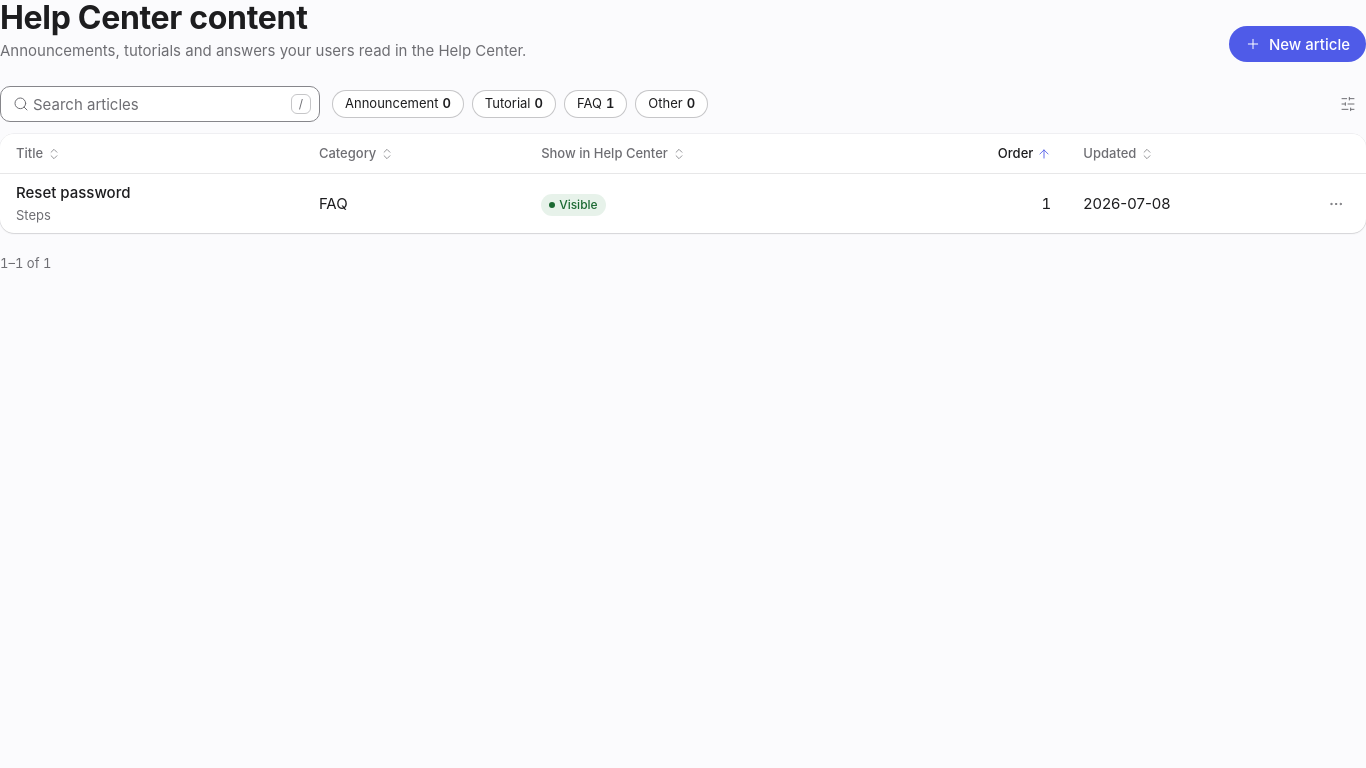
Admin Knowledge › dialogs and feedback › keeps a failed save in the dialog
Expected: the text "Reset password" is shown, [16, 183, 130, 202]
Click the button named "Actions for Reset password".
click(1336, 204)  # box [1322, 190, 1350, 218]
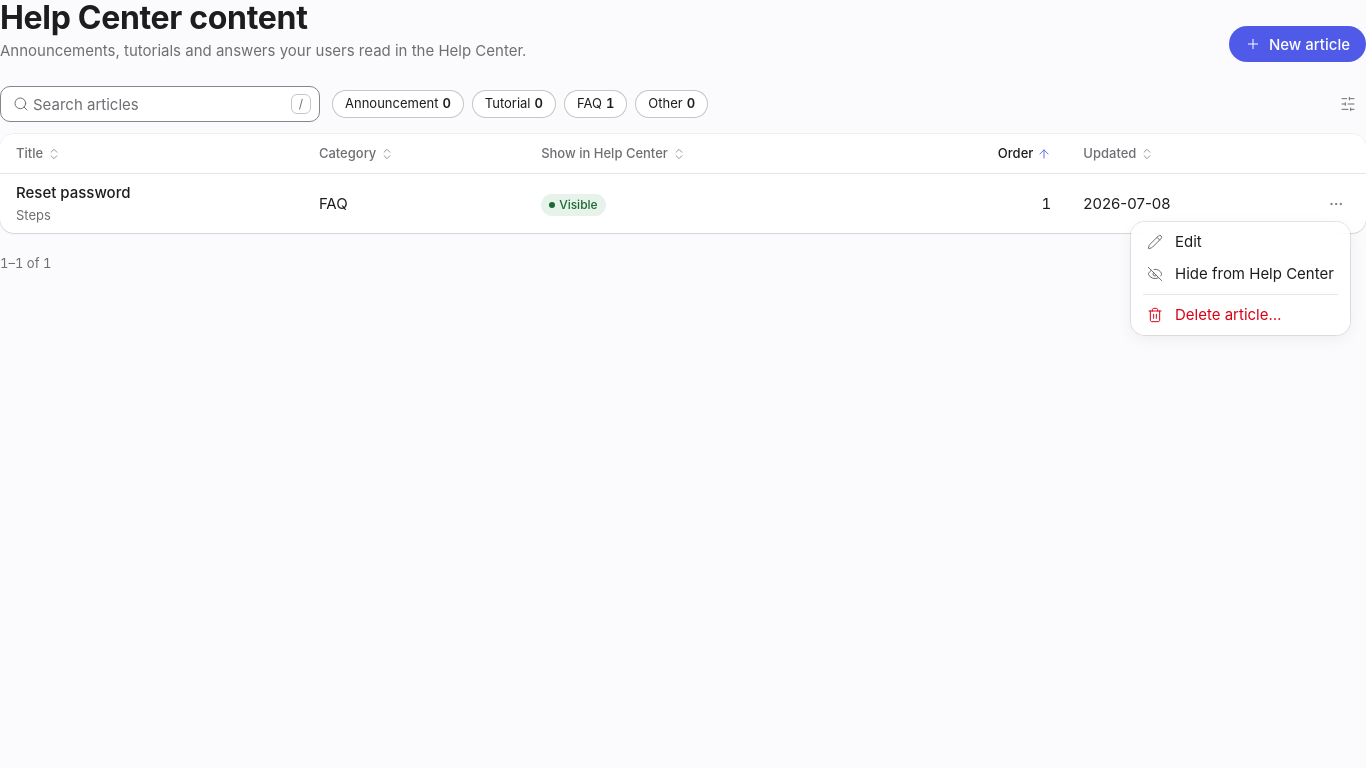
Click the menu item "Edit".
click(1174, 242)  # box [1147, 232, 1202, 251]
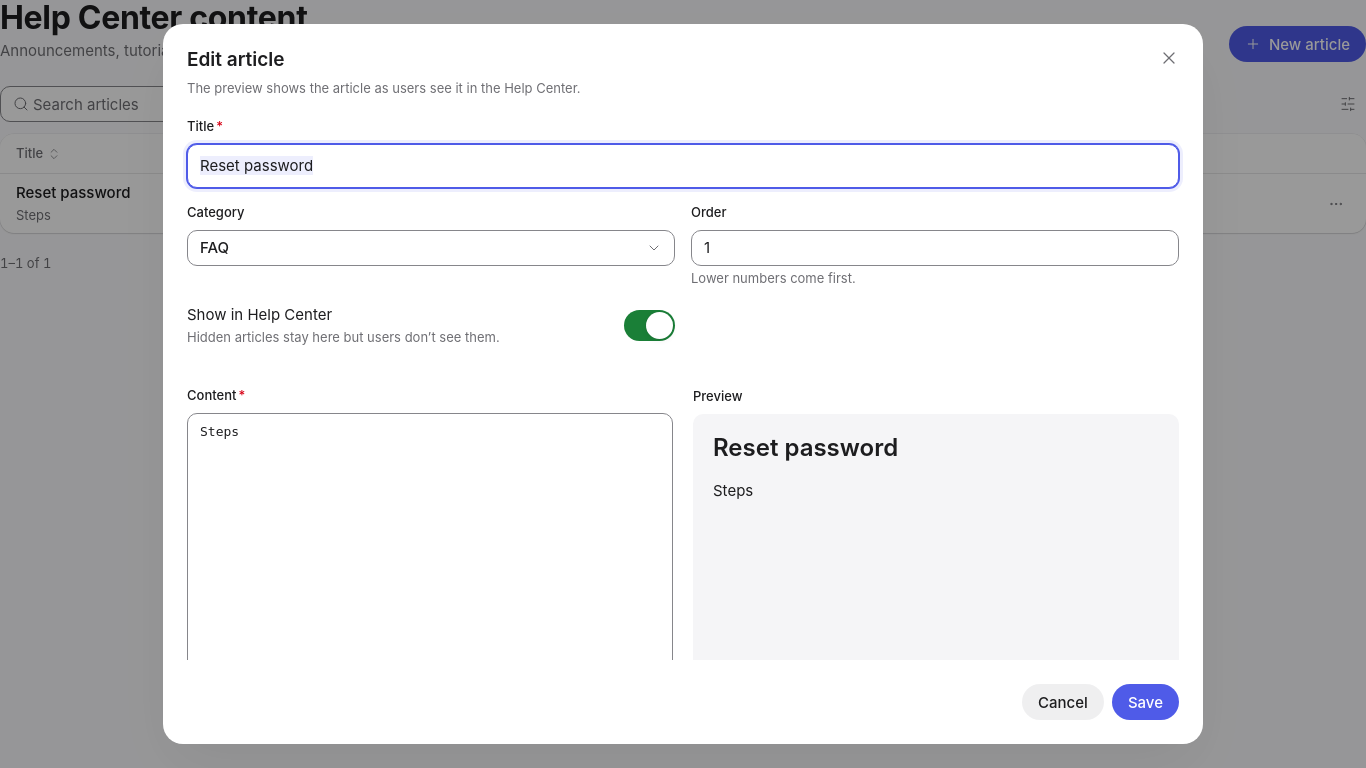
Click the button "Save".
click(1145, 702)  # box [1112, 684, 1179, 720]
(page scrolled)
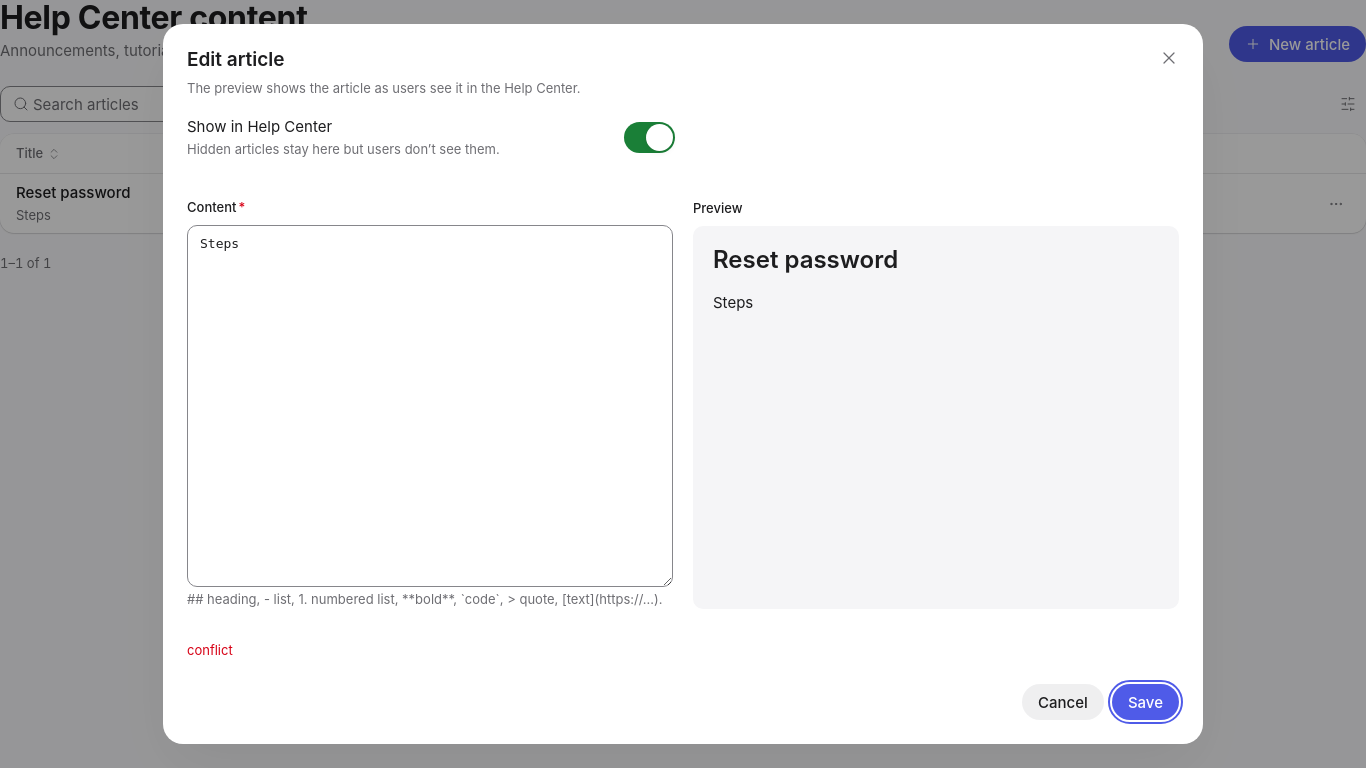
Expected: the message reads "conflict", [187, 642, 233, 658]
